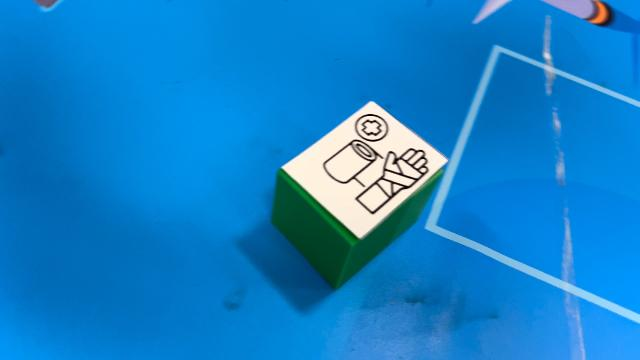bandage: (270, 100, 450, 290)
